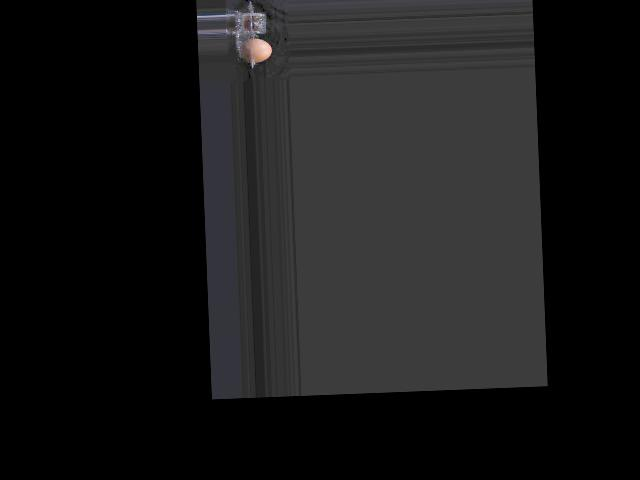egg: (239, 38, 271, 63)
